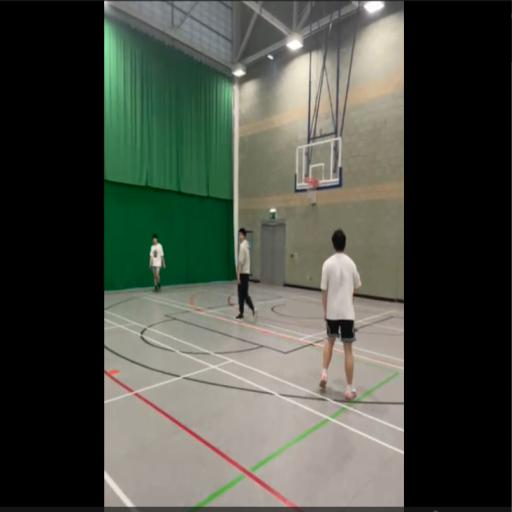hoops: (302, 174, 322, 202)
